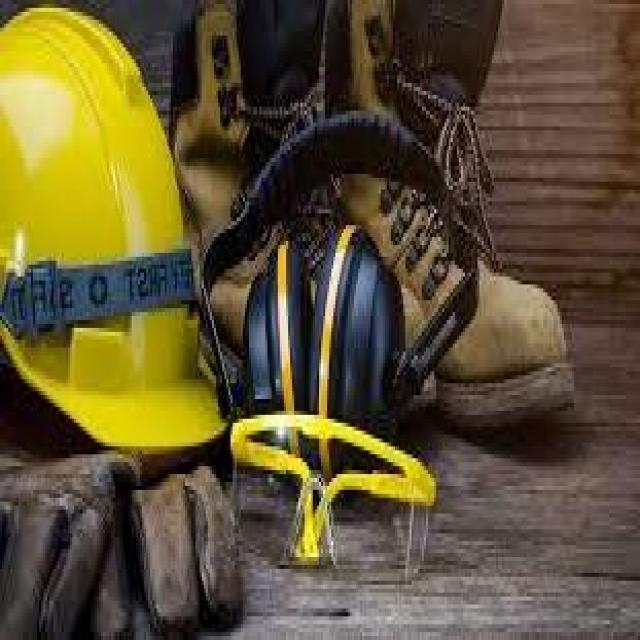Safety-Helmet: (0, 0, 233, 470)
